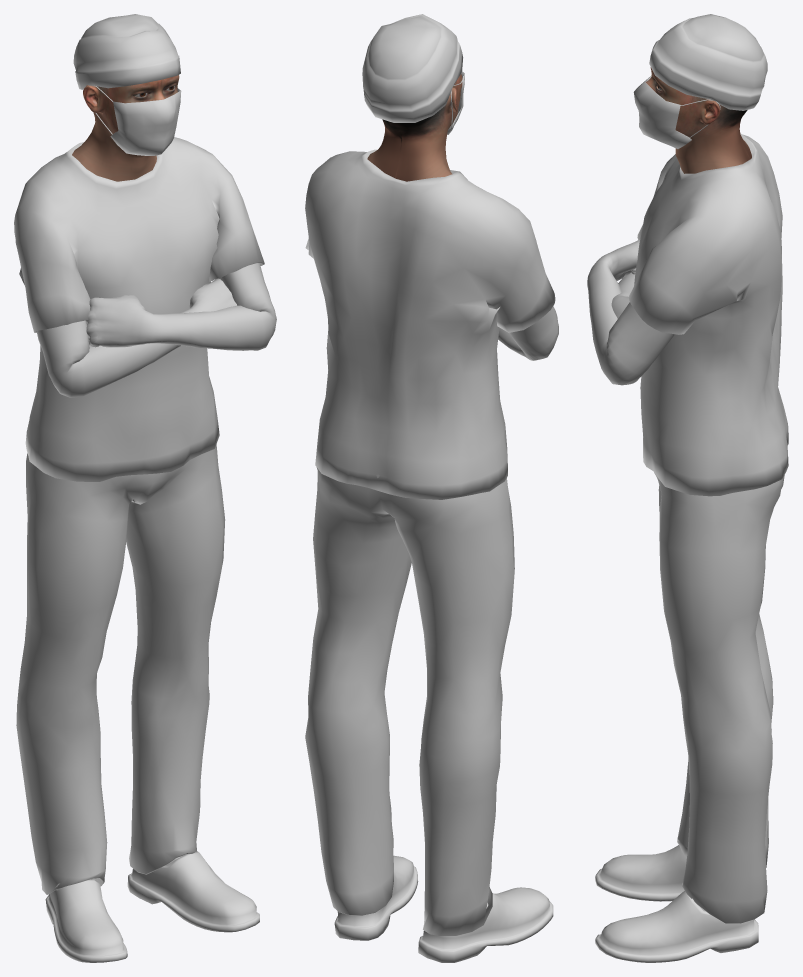
The model's file is pose_1.fbx.
The picture shows the model from 3 angles, left to right: view 1: azimuth 30°, elevation 25°; view 2: azimuth 150°, elevation 25°; view 3: azimuth 270°, elevation 25°; orthographic projection. The views are drawn at different scales.
Visible parts, largest first — view 1: clothes.006, body.002, hat.001, head_1.001, mask.001; view 2: clothes.006, hat.001, head_1.001, body.002; view 3: clothes.006, hat.001, body.002, head_1.001, mask.001.
Part boxes in pixels (x1=…): clothes.006: x1=14, y1=137, x2=264, y2=962; body.002: x1=36, y1=263, x2=276, y2=865; hat.001: x1=73, y1=14, x2=180, y2=89; head_1.001: x1=72, y1=75, x2=179, y2=181; mask.001: x1=94, y1=86, x2=181, y2=155; clothes.006: x1=305, y1=149, x2=555, y2=962; hat.001: x1=362, y1=14, x2=463, y2=122; head_1.001: x1=367, y1=74, x2=462, y2=181; body.002: x1=498, y1=306, x2=558, y2=360; clothes.006: x1=595, y1=133, x2=788, y2=962; hat.001: x1=649, y1=14, x2=767, y2=110; body.002: x1=587, y1=239, x2=705, y2=911; head_1.001: x1=645, y1=67, x2=751, y2=173; mask.001: x1=633, y1=75, x2=720, y2=148.
Size of the model in its own units: 0.4037 by 1.56 by 0.3165.
